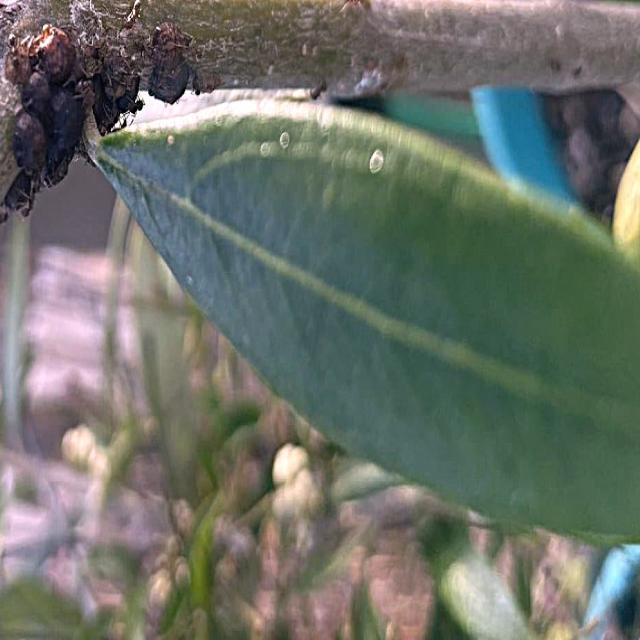Black Scale: (0, 0, 201, 224)
